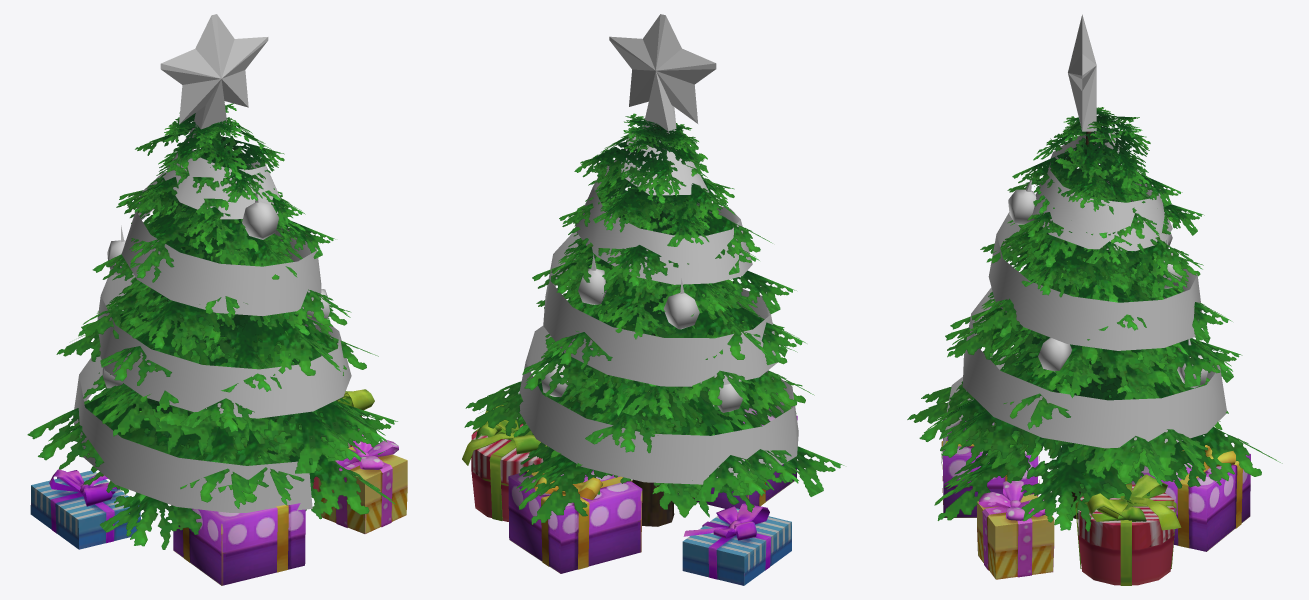
File: furni_0200216.FBX
3 renders of one model, left to right at view 1: azimuth 30°, elevation 25°; view 2: azimuth 150°, elevation 25°; view 3: azimuth 270°, elevation 25°, orthographic. The views are drawn at different scales.
Parts seen in each view (by area): view 1: furni_0200216; view 2: furni_0200216; view 3: furni_0200216.
Boxes of the visible parts, <box> form: furni_0200216: <box>27,14,407,585</box>; furni_0200216: <box>462,14,844,585</box>; furni_0200216: <box>907,14,1282,585</box>.
Size of the model in its own units: 98.6 by 133 by 98.6.
